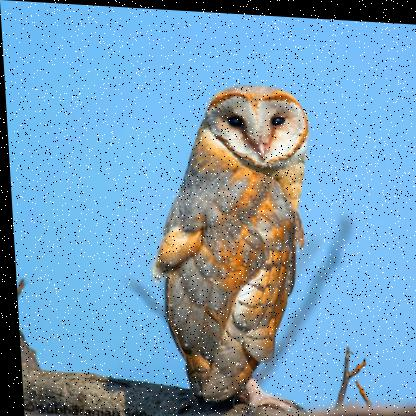Burung: (136, 76, 321, 410)
